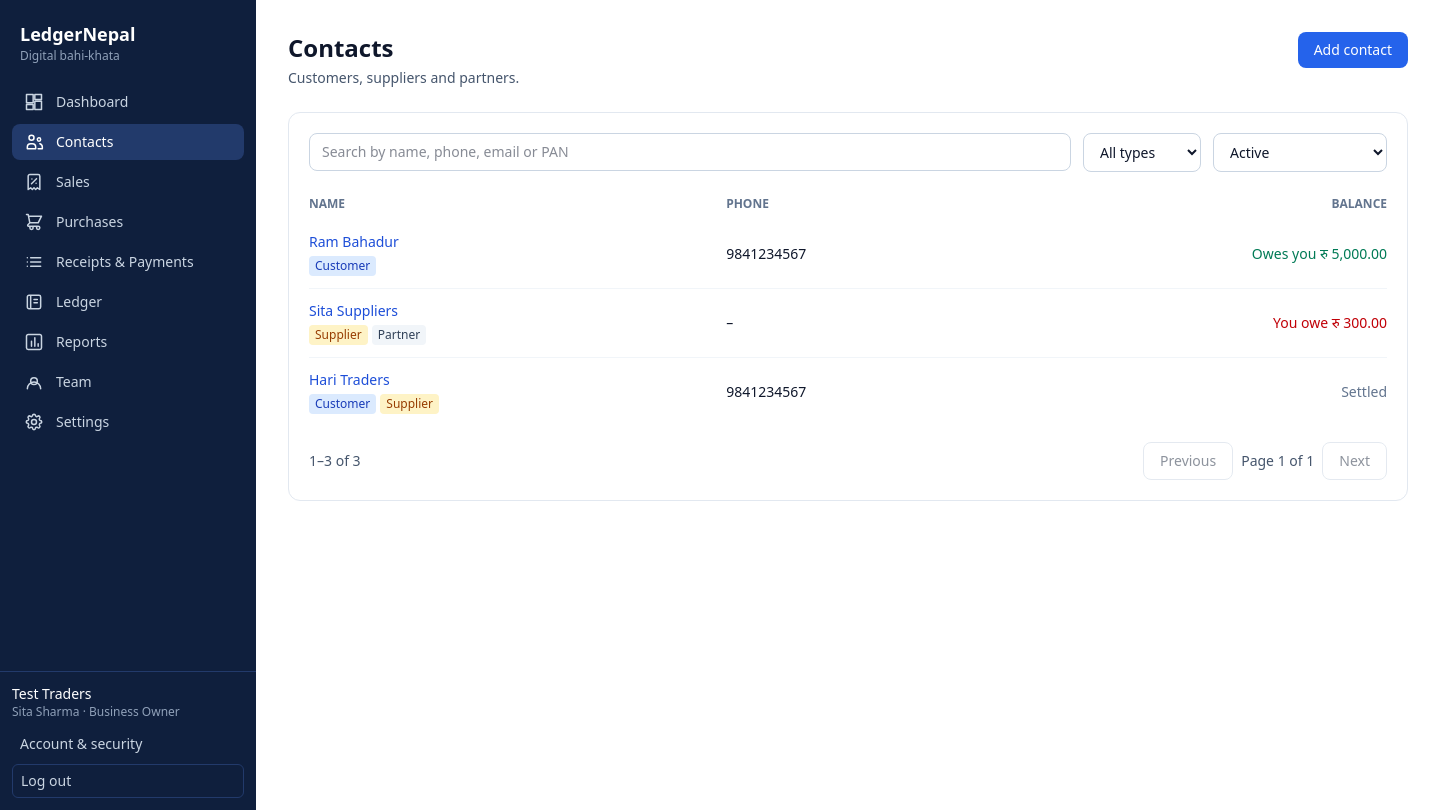
contacts list › says so when filters match nothing, and clears them
expect the link "Ram Bahadur" is shown: met, box top-left (309, 232), bottom-right (399, 251)
Step 1. Select "Partners" in the 1st dropdown named "Type" → (1142, 152), box top-left (1083, 133), bottom-right (1201, 172)
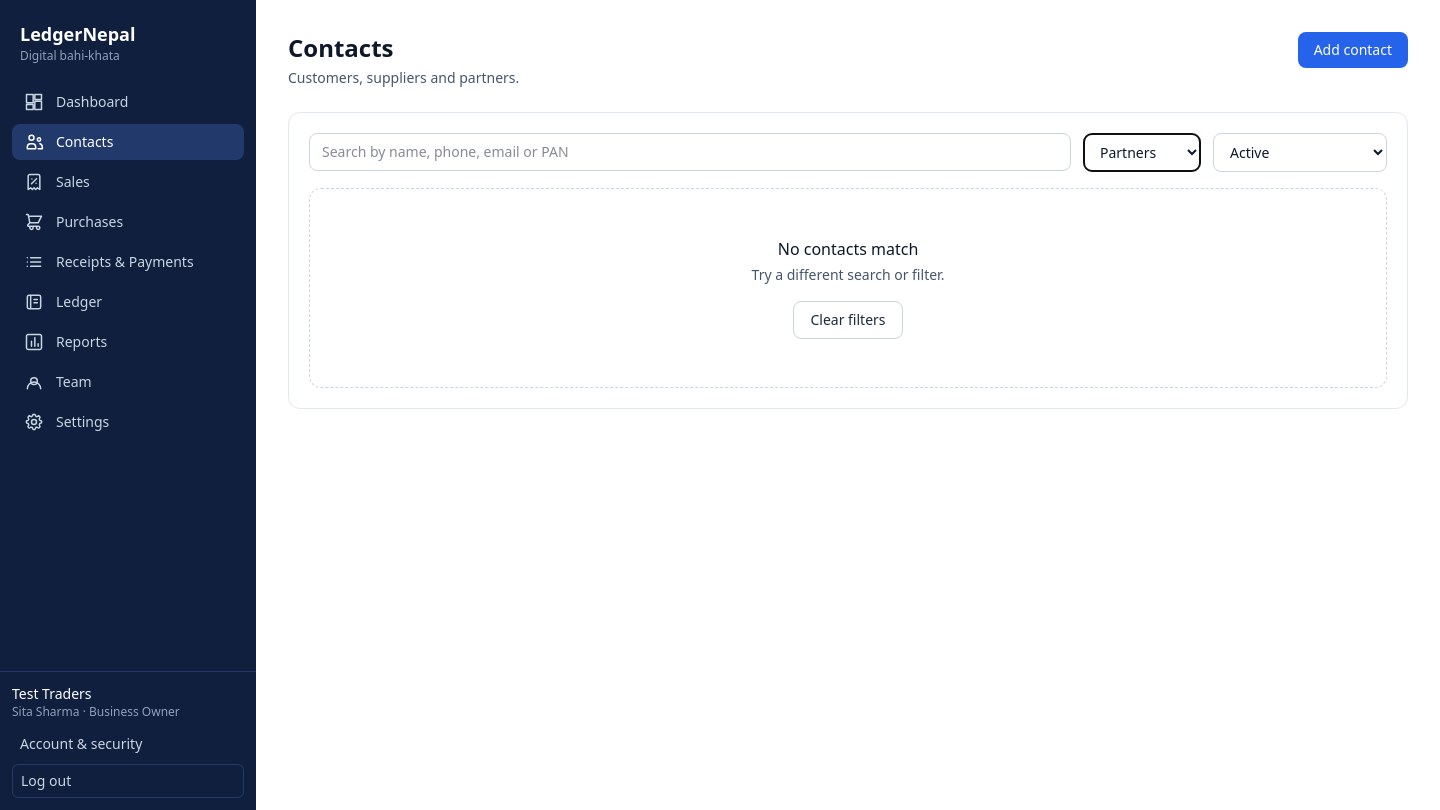
expect the text "No contacts match" is shown: met, box top-left (778, 237), bottom-right (918, 261)
Step 2. Click the button "Clear filters" → (848, 320), box top-left (793, 301), bottom-right (902, 339)
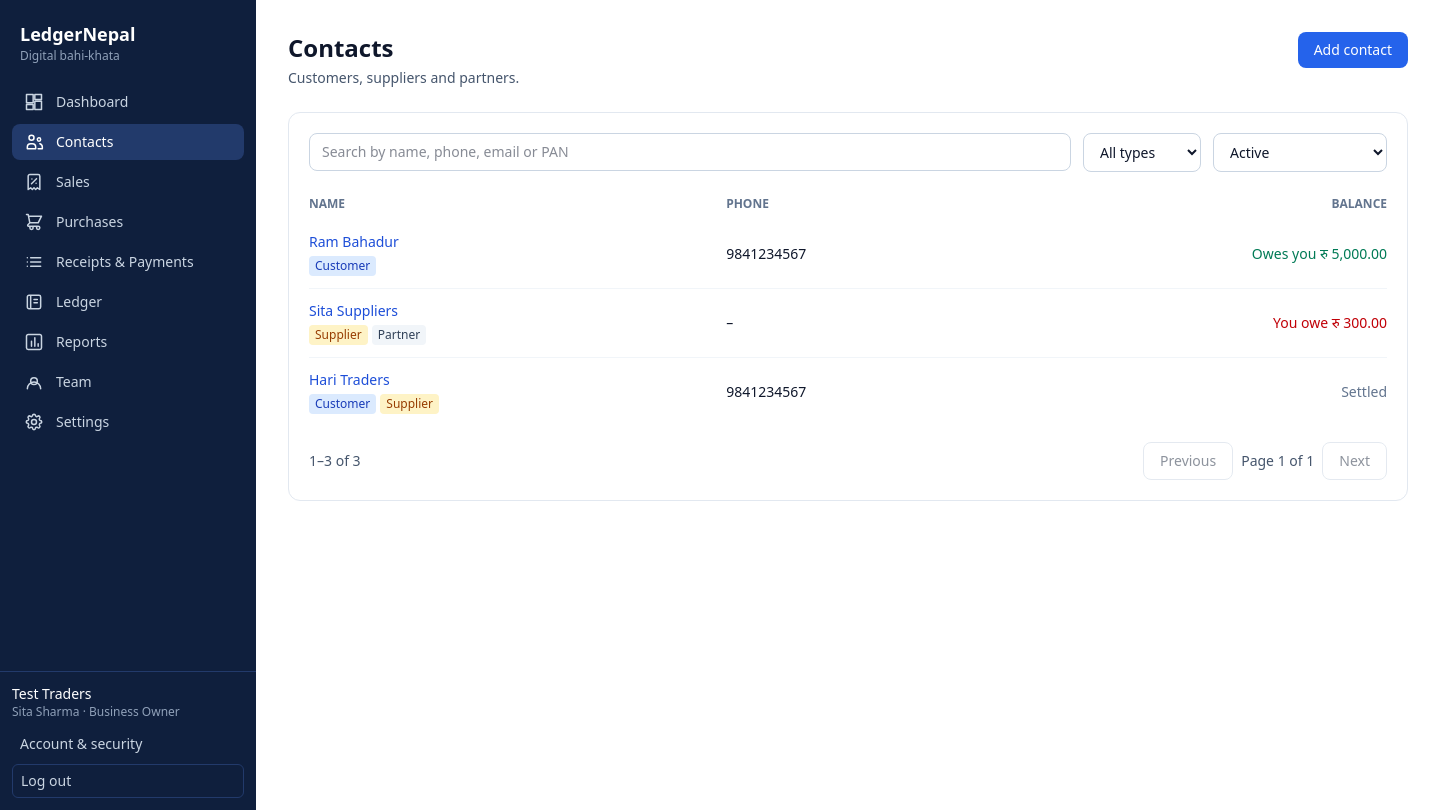
expect the link "Ram Bahadur" is shown: met, box top-left (309, 232), bottom-right (399, 251)
